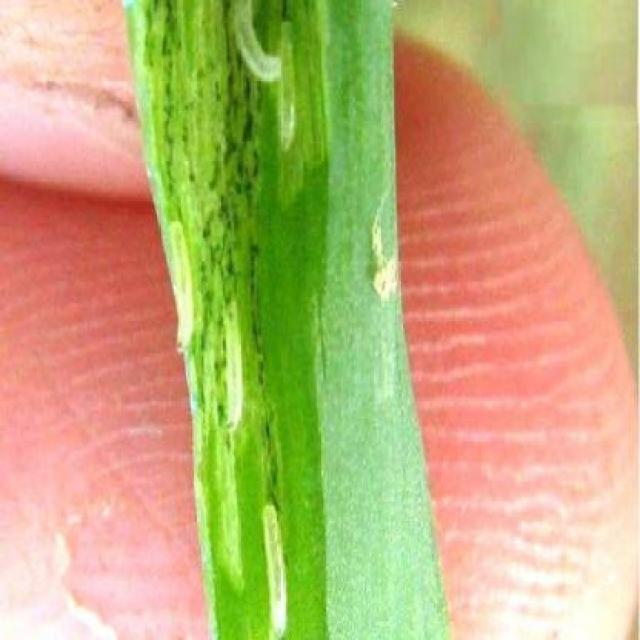whorl-maggot: (254, 498, 295, 640), (232, 0, 282, 100), (272, 11, 306, 149), (222, 292, 249, 440), (171, 216, 197, 366)
